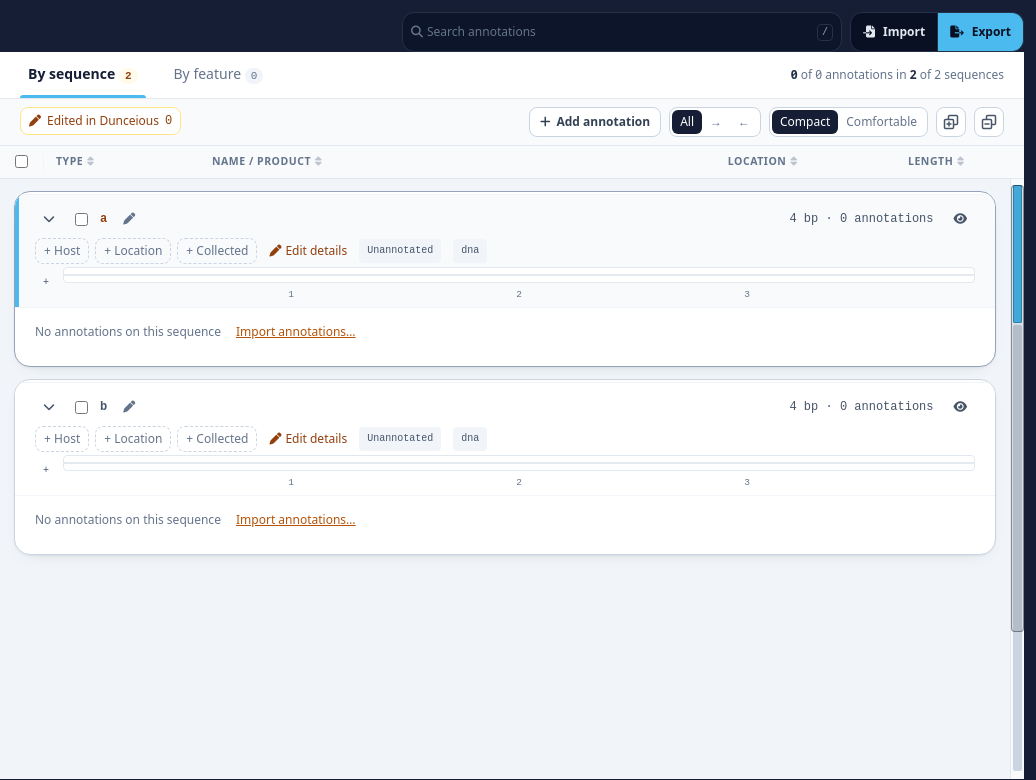
Test: discarding a dirty draft uses the injected confirm
Click the 1st button "Edit details": (308, 251) top-left (269, 239), bottom-right (347, 263)
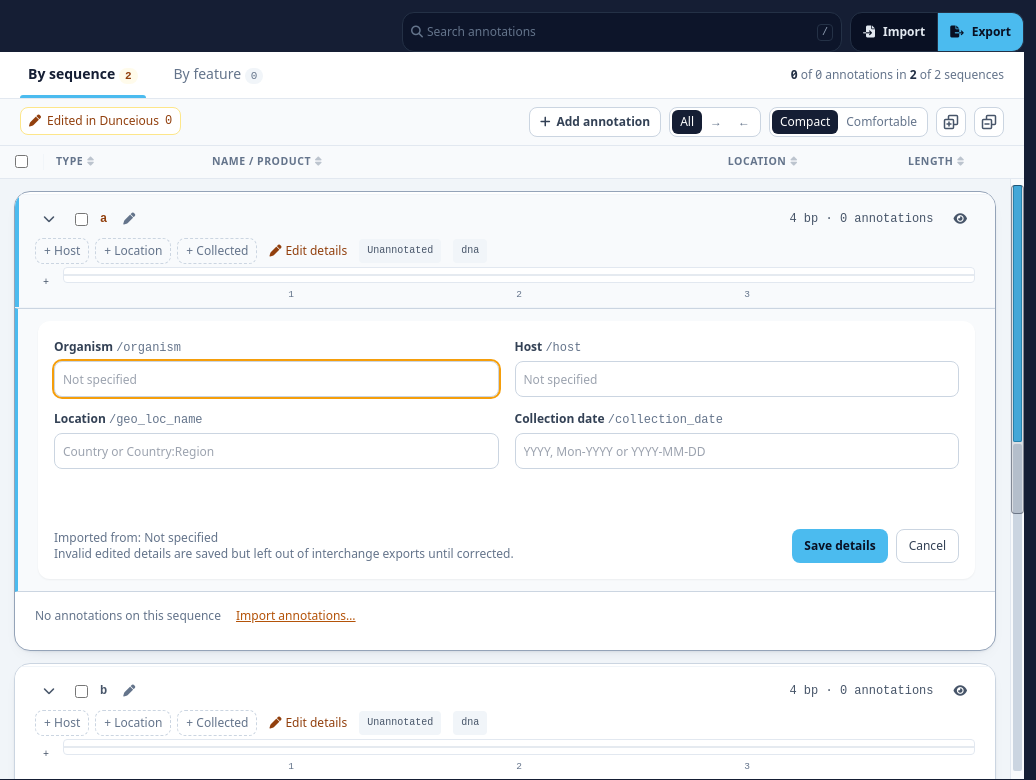
In the field labelled "Host": (737, 379) top-left (514, 361), bottom-right (959, 397), type "camel draft"
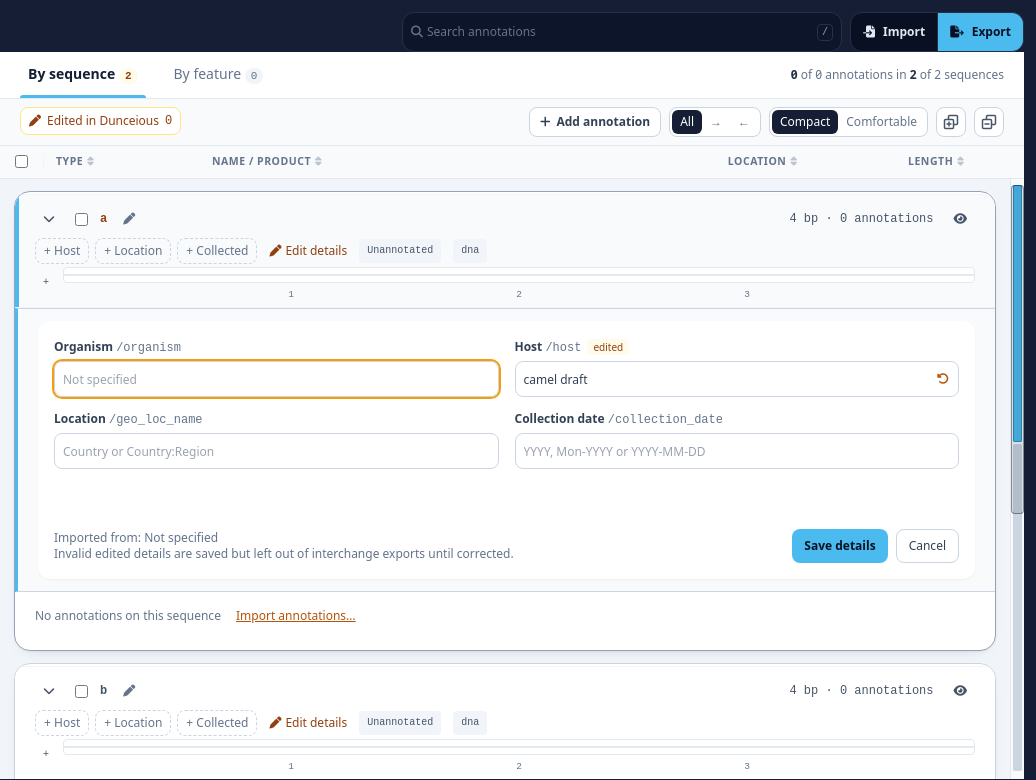
Click the button named "Rename a": (129, 219) top-left (115, 199), bottom-right (143, 239)
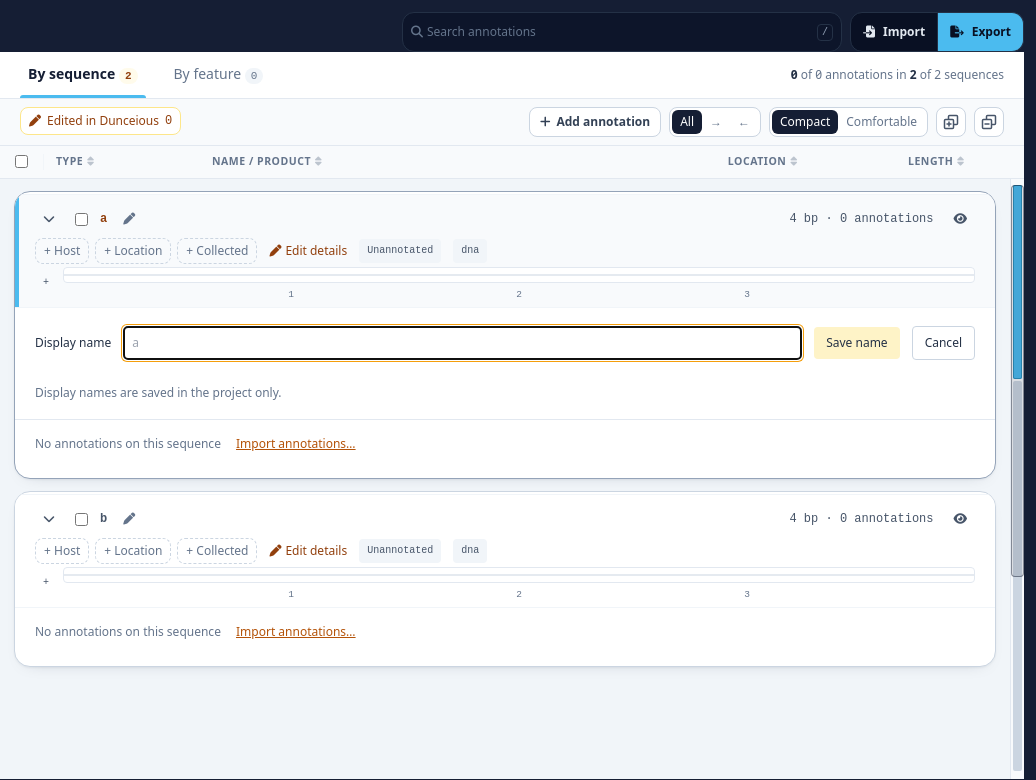
Expected: the field labelled "Display name" is shown, top-left (123, 326), bottom-right (802, 360)
